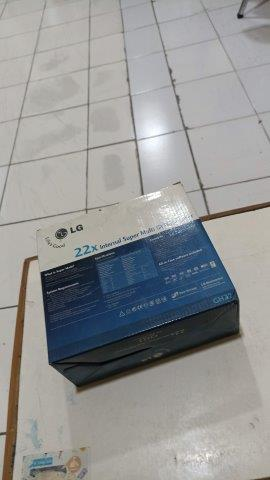kardus: (36, 183, 239, 387)
